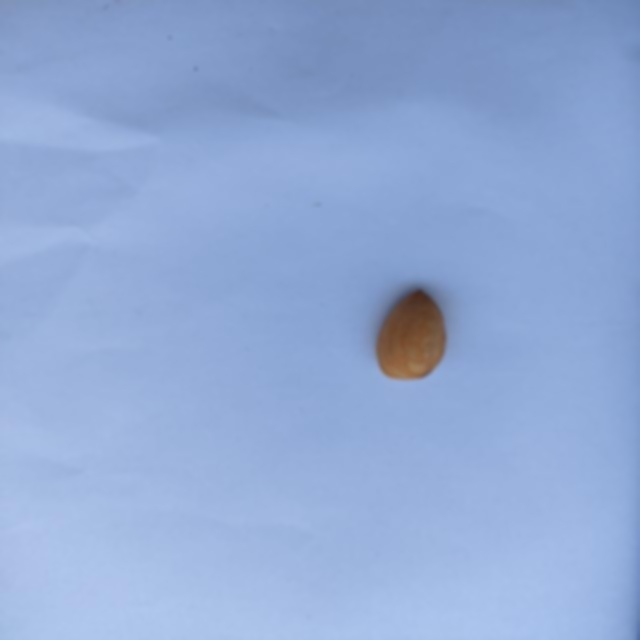grade2: (370, 287, 450, 383)
